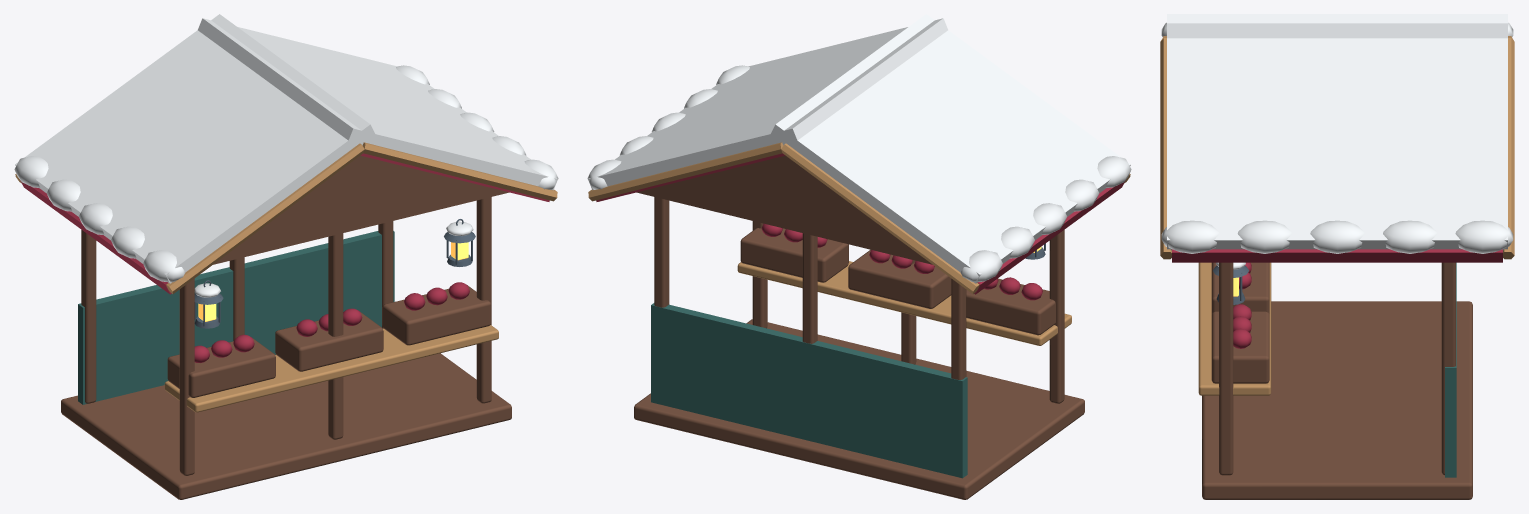
Rendered from market.glb.
3 renders of one model, left to right at view 1: azimuth 30°, elevation 25°; view 2: azimuth 150°, elevation 25°; view 3: azimuth 270°, elevation 25°, orthographic. The views are drawn at different scales.
Visible parts, largest first — view 1: covered-winter-market-snow, covered-winter-market-wood, covered-winter-market-pine, covered-winter-market-oak, covered-winter-market-berry, covered-winter-market-iron; view 2: covered-winter-market-snow, covered-winter-market-wood, covered-winter-market-pine, covered-winter-market-oak, covered-winter-market-berry; view 3: covered-winter-market-snow, covered-winter-market-wood, covered-winter-market-oak, covered-winter-market-berry, covered-winter-market-pine.
Boxes of the visible parts, bbox=[...] form: covered-winter-market-snow: bbox=[14, 14, 558, 297]; covered-winter-market-wood: bbox=[61, 155, 511, 499]; covered-winter-market-pine: bbox=[78, 231, 394, 404]; covered-winter-market-oak: bbox=[15, 142, 557, 412]; covered-winter-market-berry: bbox=[20, 153, 549, 362]; covered-winter-market-iron: bbox=[194, 219, 475, 328]; covered-winter-market-snow: bbox=[587, 14, 1131, 283]; covered-winter-market-wood: bbox=[634, 155, 1084, 499]; covered-winter-market-pine: bbox=[651, 303, 967, 478]; covered-winter-market-oak: bbox=[588, 142, 1130, 345]; covered-winter-market-berry: bbox=[596, 153, 1125, 300]; covered-winter-market-snow: bbox=[1161, 14, 1513, 269]; covered-winter-market-wood: bbox=[1202, 262, 1472, 499]; covered-winter-market-oak: bbox=[1160, 36, 1514, 395]; covered-winter-market-berry: bbox=[1172, 249, 1502, 348]; covered-winter-market-pine: bbox=[1445, 262, 1456, 477].
Size of the model in its own units: 5.46 by 4.45 by 3.66.
